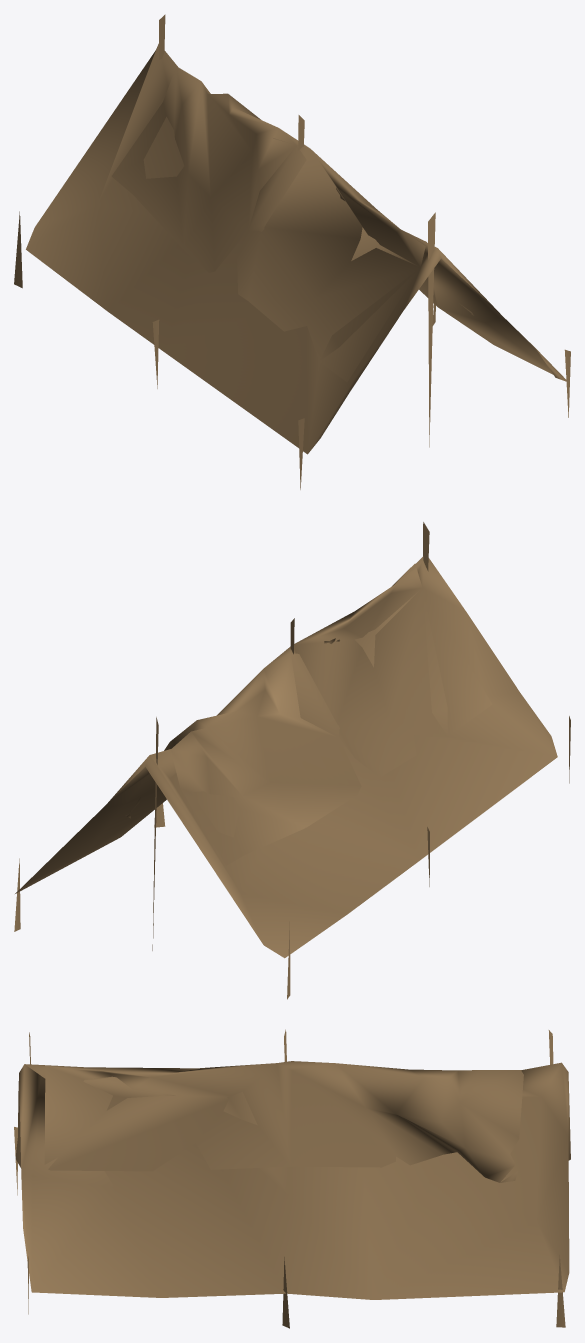
The model's file is tienda_pequena_lejos.glb.
3 views of the same model, one above another, from view 1: azimuth 30°, elevation 25°; view 2: azimuth 150°, elevation 25°; view 3: azimuth 270°, elevation 25° (orthographic). The views are drawn at different scales.
Parts seen in each view (by area): view 1: tienda_pequena_lejos; view 2: tienda_pequena_lejos; view 3: tienda_pequena_lejos.
Boxes of the visible parts, x1=… form: tienda_pequena_lejos: x1=14, y1=14, x2=570, y2=489; tienda_pequena_lejos: x1=14, y1=522, x2=570, y2=999; tienda_pequena_lejos: x1=14, y1=1029, x2=570, y2=1328.
Bounding box in the file's own units: 2.88 × 2.4 × 5.14.
